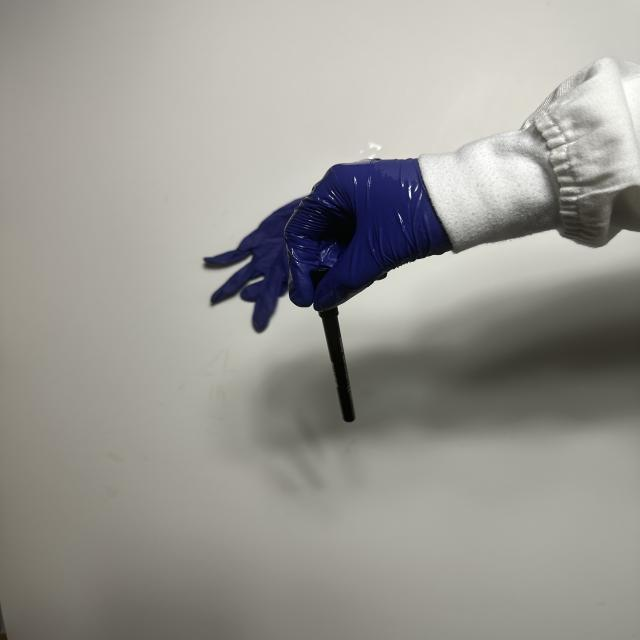gloves_contaminated: (284, 159, 451, 311)
